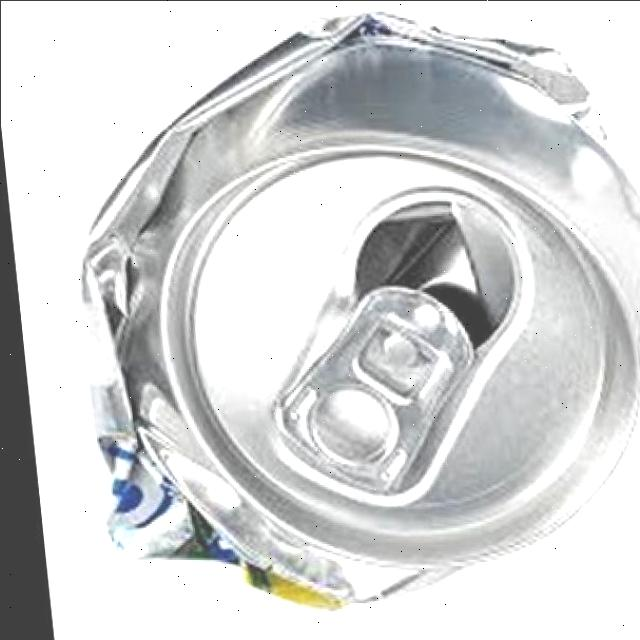trash: (32, 8, 640, 616)
